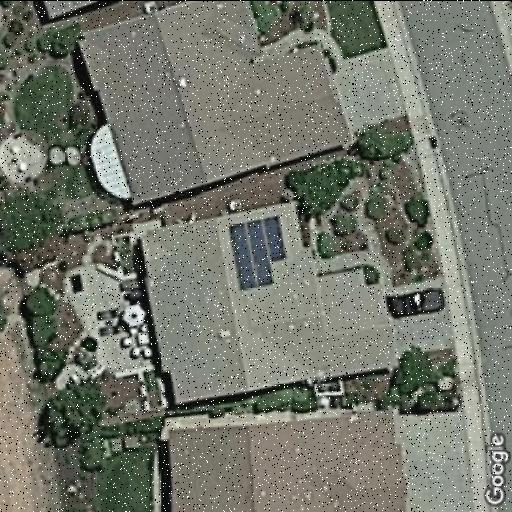solar-panel: (228, 212, 288, 294)
